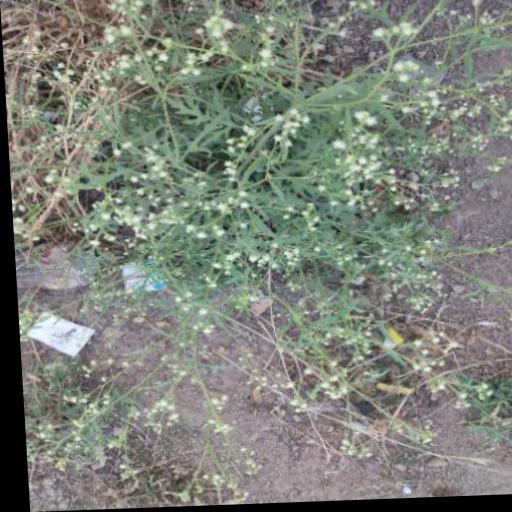weed: (20, 0, 402, 276)
